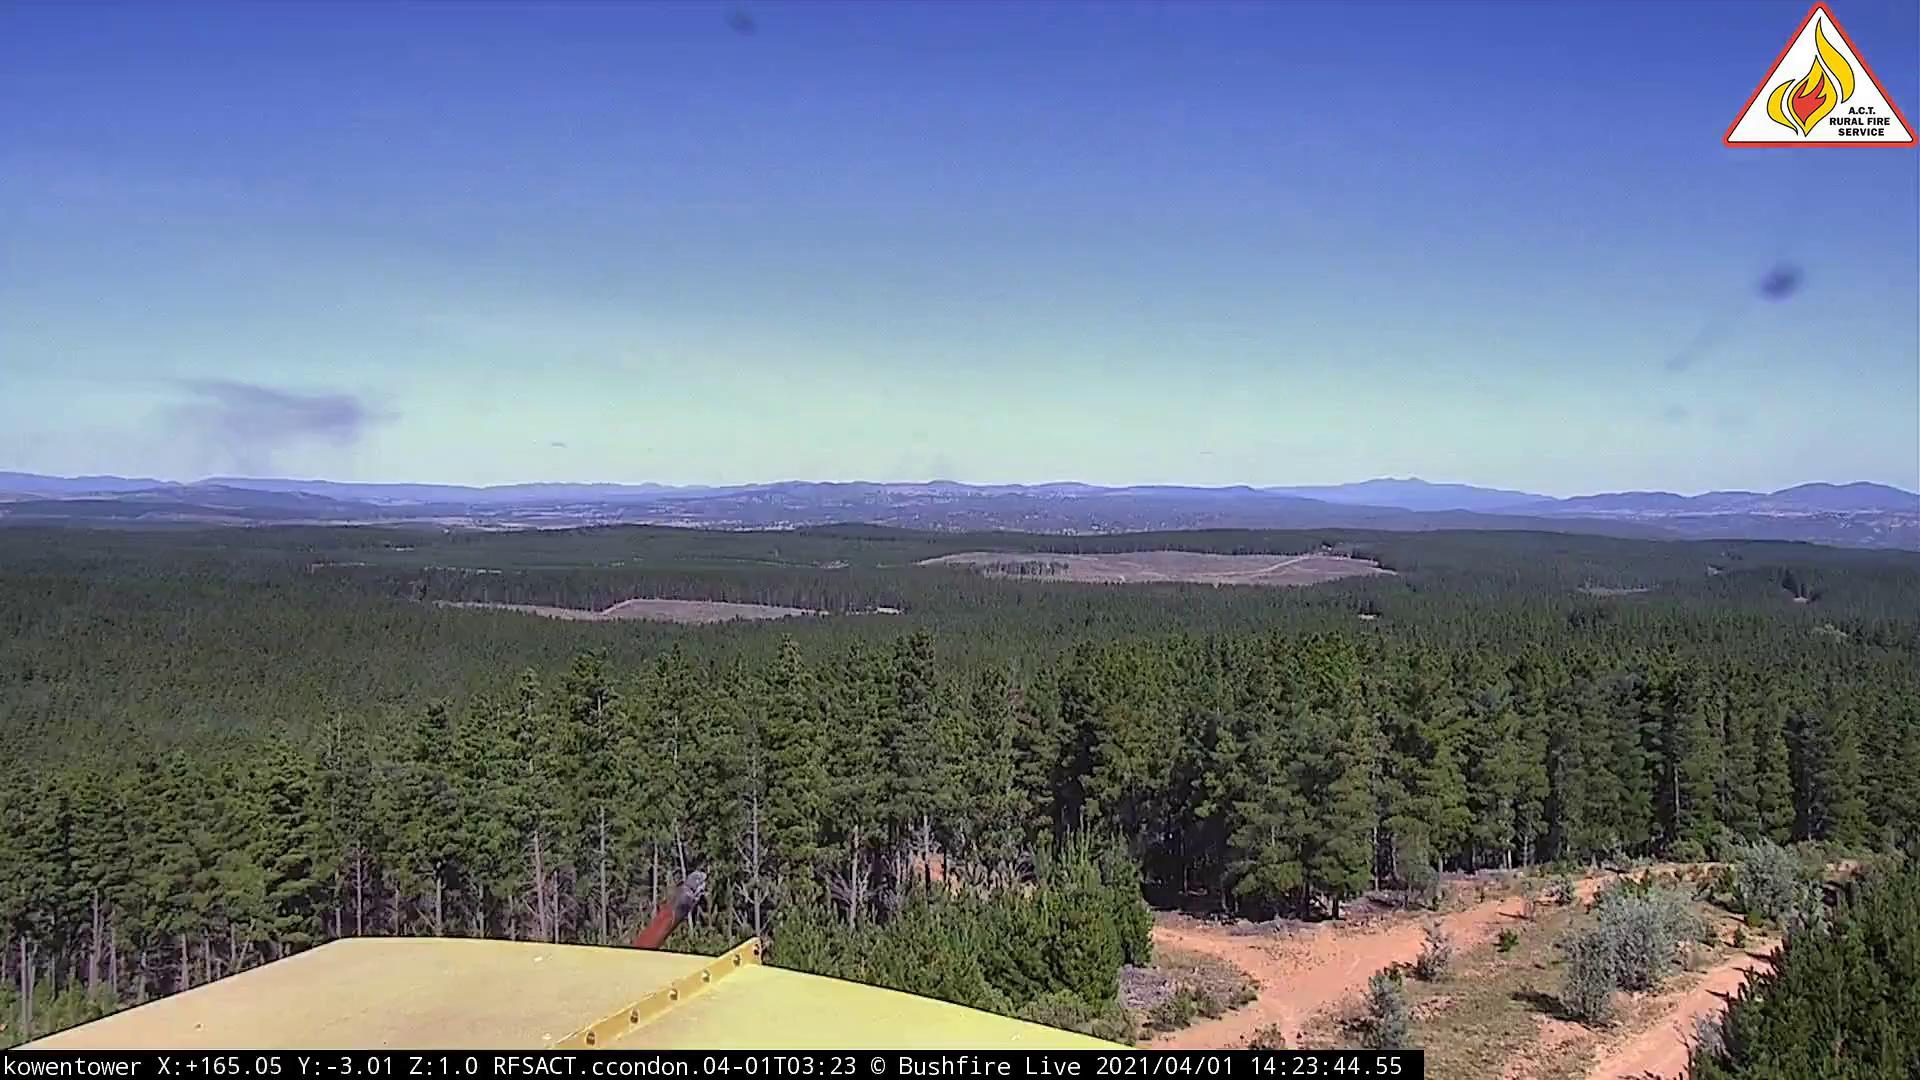Smoke: (86, 357, 434, 513)
